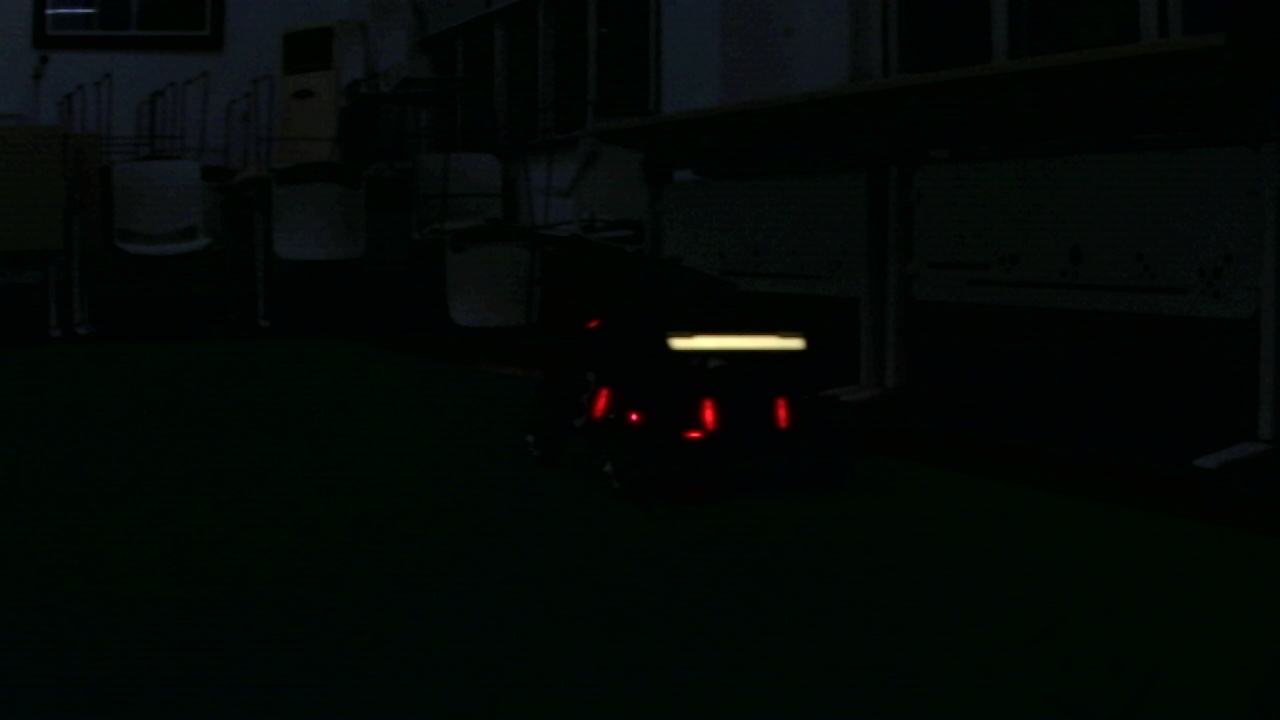lamp: (593, 381, 611, 419), (700, 395, 716, 431), (775, 395, 792, 427)
pair1: (703, 397, 788, 429)
